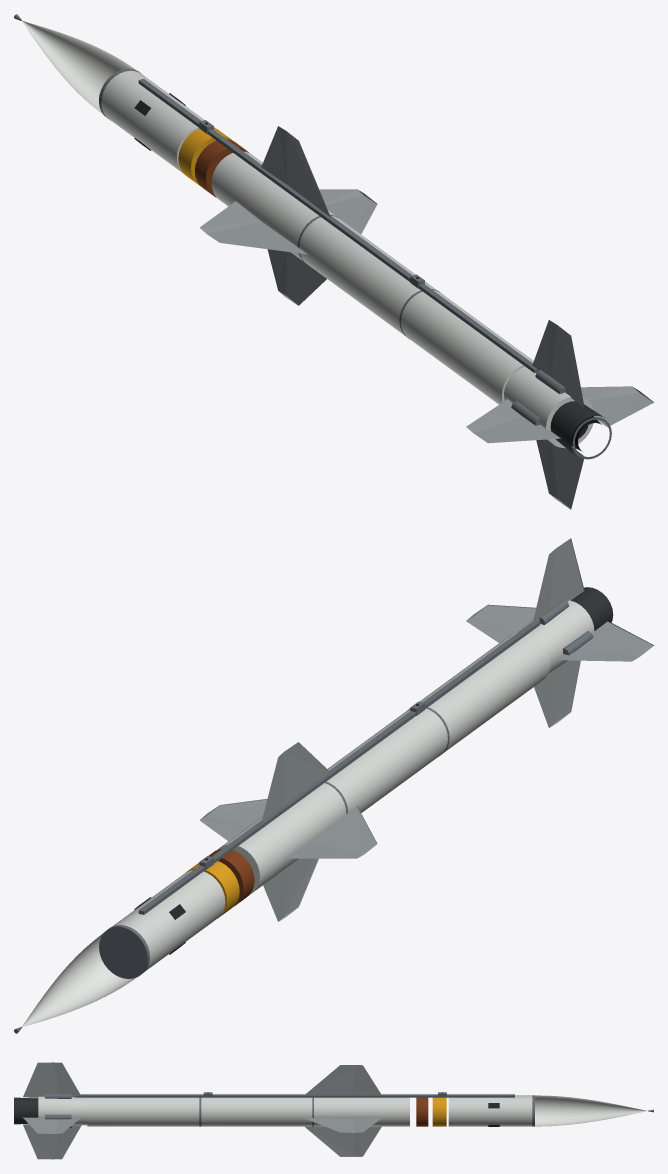
Rendered from aim-120c.glb.
The picture shows the model from 3 angles, top to bottom: view 1: azimuth 30°, elevation 25°; view 2: azimuth 150°, elevation 25°; view 3: azimuth 270°, elevation 25°; orthographic projection. The views are drawn at different scales.
Visible parts, largest first — view 1: AIM120C_missile-body, AIM120C_missile-fin, AIM120C_missile-steel, AIM120C_missile-radome, AIM120C_missile-nozzle, AIM120C_missile-band-brown, AIM120C_missile-band-yellow; view 2: AIM120C_missile-body, AIM120C_missile-fin, AIM120C_missile-steel, AIM120C_missile-radome, AIM120C_missile-nozzle, AIM120C_missile-band-brown, AIM120C_missile-band-yellow; view 3: AIM120C_missile-body, AIM120C_missile-fin, AIM120C_missile-steel, AIM120C_missile-radome, AIM120C_missile-nozzle, AIM120C_missile-band-yellow, AIM120C_missile-band-brown.
Part boxes in pixels (box(x1,y1,x2,y2)): AIM120C_missile-body: box(101, 70, 594, 448); AIM120C_missile-fin: box(199, 126, 653, 509); AIM120C_missile-steel: box(14, 14, 611, 459); AIM120C_missile-radome: box(22, 20, 136, 114); AIM120C_missile-nozzle: box(550, 401, 604, 456); AIM120C_missile-band-brown: box(195, 139, 248, 197); AIM120C_missile-band-yellow: box(178, 128, 232, 185); AIM120C_missile-body: box(112, 600, 594, 971); AIM120C_missile-fin: box(199, 538, 653, 921); AIM120C_missile-steel: box(14, 599, 593, 1033); AIM120C_missile-radome: box(22, 933, 137, 1027); AIM120C_missile-nozzle: box(571, 587, 613, 630); AIM120C_missile-band-brown: box(208, 848, 254, 906); AIM120C_missile-band-yellow: box(187, 861, 239, 918); AIM120C_missile-body: box(38, 1095, 532, 1126); AIM120C_missile-fin: box(23, 1062, 382, 1159); AIM120C_missile-steel: box(45, 1092, 653, 1127); AIM120C_missile-radome: box(535, 1095, 646, 1126); AIM120C_missile-nozzle: box(14, 1097, 38, 1124); AIM120C_missile-band-yellow: box(432, 1097, 446, 1126); AIM120C_missile-band-brown: box(416, 1097, 428, 1126).
Bounding box in the file's own units: 0.6091 × 0.6091 × 3.66.
